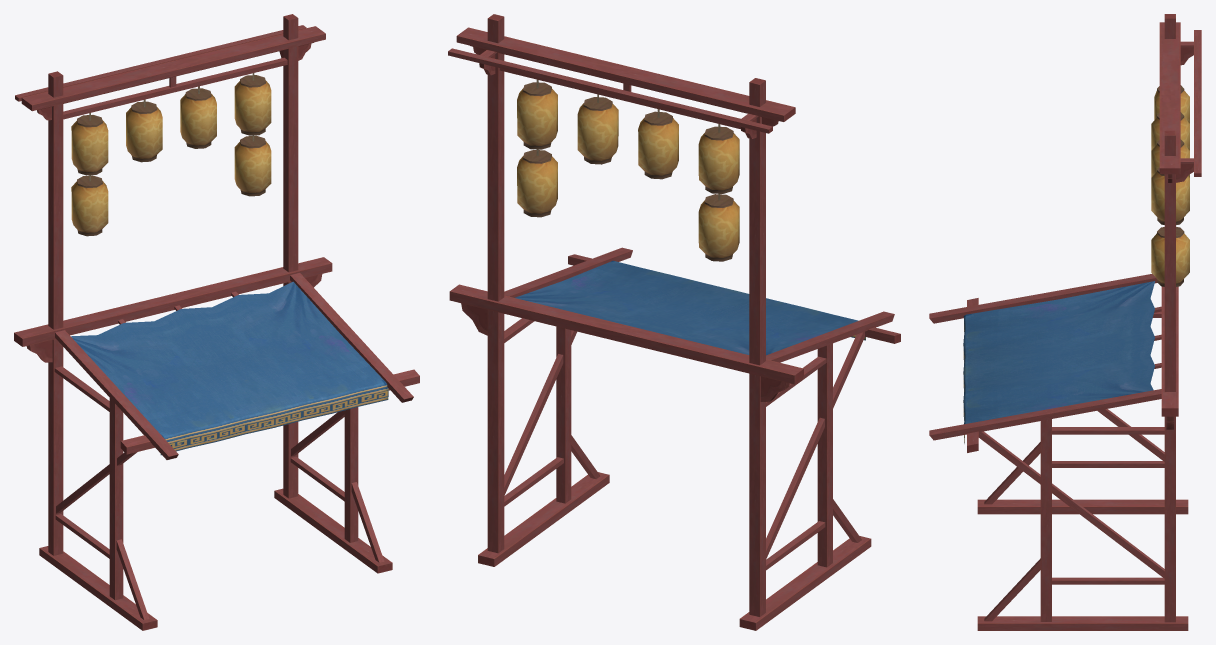
Rendered from Homeworld_Exterior_Ly_Thing_Build_LanternRiteVendor_01_Lod0.fbx.
3 views of the same model, side by side, from view 1: azimuth 30°, elevation 25°; view 2: azimuth 150°, elevation 25°; view 3: azimuth 270°, elevation 25° (orthographic). The views are drawn at different scales.
Visible parts, largest first — view 1: Area_Ly_Prop_LYG_Hdj_Tanwei_02_Lod0; view 2: Area_Ly_Prop_LYG_Hdj_Tanwei_02_Lod0; view 3: Area_Ly_Prop_LYG_Hdj_Tanwei_02_Lod0.
Boxes of the visible parts, bbox=[...] form: Area_Ly_Prop_LYG_Hdj_Tanwei_02_Lod0: bbox=[14, 14, 419, 630]; Area_Ly_Prop_LYG_Hdj_Tanwei_02_Lod0: bbox=[448, 14, 900, 630]; Area_Ly_Prop_LYG_Hdj_Tanwei_02_Lod0: bbox=[929, 14, 1201, 630].
Size of the model in its own units: 6 by 8.98 by 4.48.
